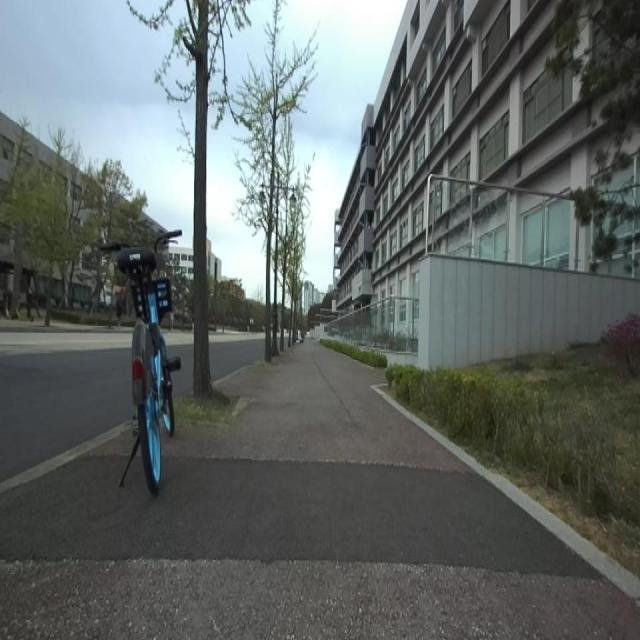sidewalk: (0, 340, 640, 639), (373, 384, 640, 600), (0, 421, 130, 494)
